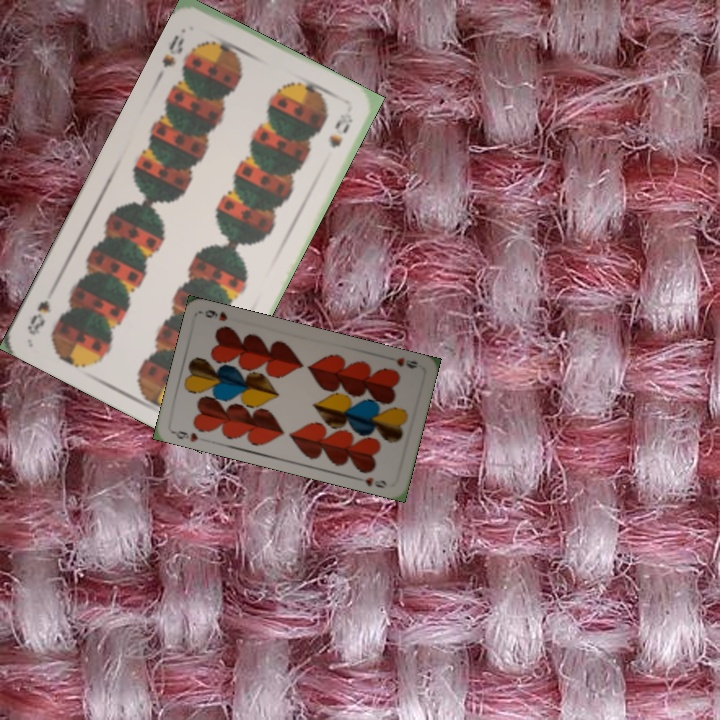H9: (169, 427, 201, 445), (392, 353, 420, 372)
S8: (158, 30, 187, 71)
